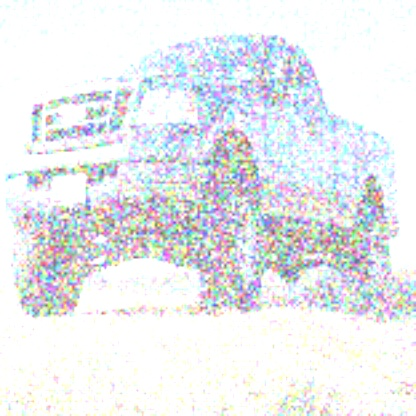Vehicle: (5, 33, 403, 320)
